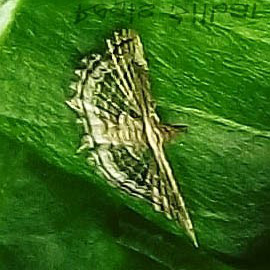Alucitidae: (62, 26, 205, 250)
moth: (64, 28, 207, 252)
